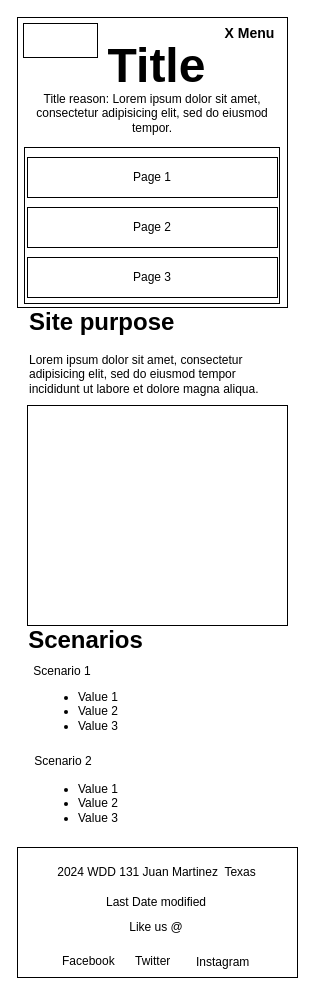
This 315x995 diagram has some shape labels left out. The box of each missing label's shape, as (x1, y1, x2, y2) in pixels:
Logo: (22, 22, 98, 58)
Picture: (26, 404, 288, 626)
